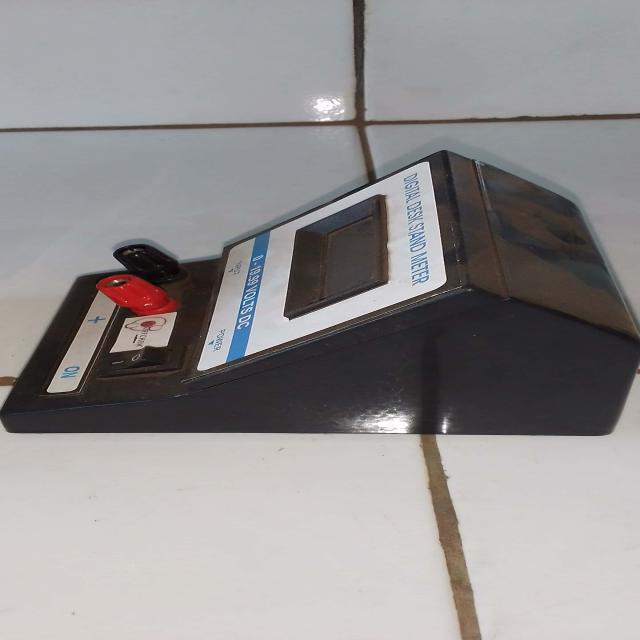Digital Voltmeter 0-20V: (0, 143, 624, 467)
